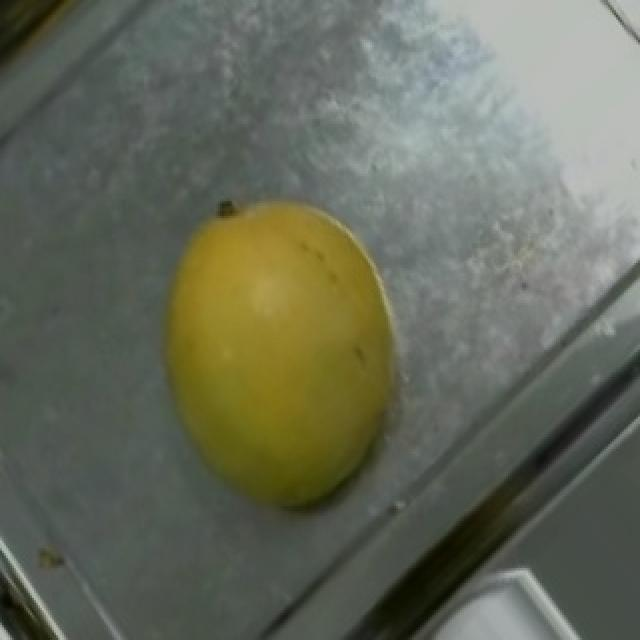fruit: (88, 166, 480, 568)
